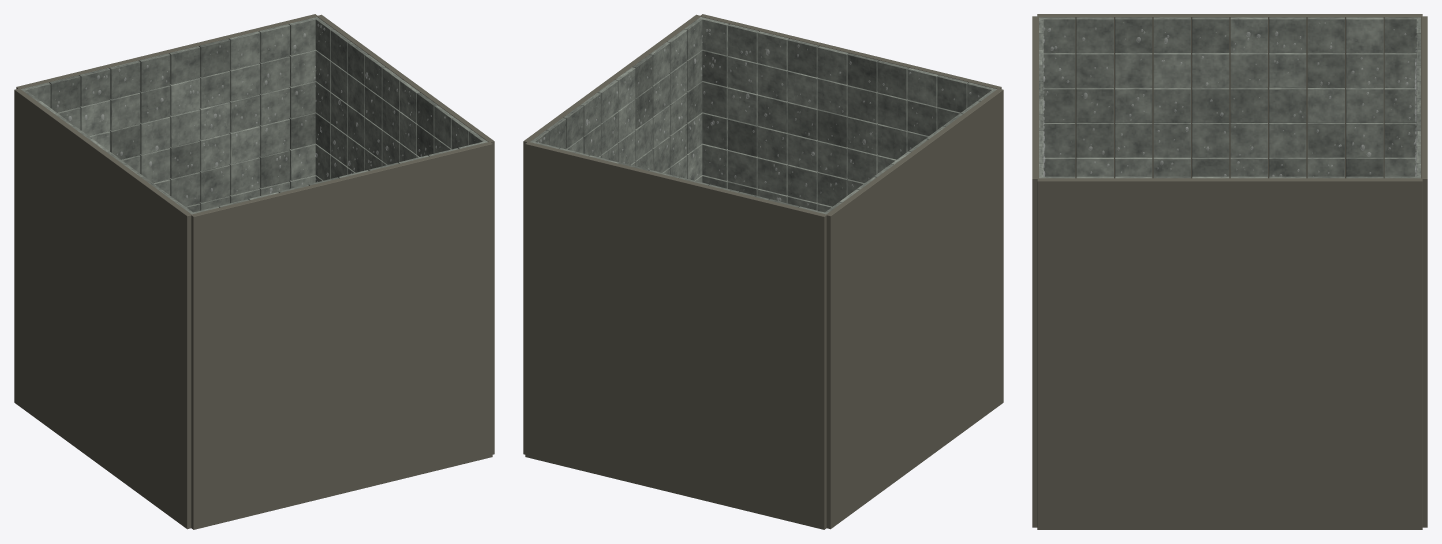
Rendered from 05_灰磁磚牆_水珠_10x10.glb.
The picture shows the model from 3 angles, left to right: view 1: azimuth 30°, elevation 25°; view 2: azimuth 150°, elevation 25°; view 3: azimuth 270°, elevation 25°; orthographic projection. The views are drawn at different scales.
Parts seen in each view (by area): view 1: cube45.001, cube48.001, cube47.001, cube46.001; view 2: cube47.001, cube48.001, cube45.001, cube46.001; view 3: cube46.001, cube48.001, cube45.001, cube47.001, cube127.001.
Part boxes in pixels (box(x1,y1,x2,y2)): cube45.001: box(190, 141, 492, 529); cube48.001: box(14, 88, 194, 529); cube47.001: box(16, 14, 318, 212); cube46.001: box(314, 14, 494, 454); cube47.001: box(525, 141, 827, 529); cube48.001: box(825, 88, 1003, 529); cube45.001: box(699, 14, 1001, 212); cube46.001: box(523, 14, 702, 454); cube46.001: box(1037, 176, 1422, 529); cube48.001: box(1037, 14, 1422, 178); cube45.001: box(1032, 16, 1043, 527); cube47.001: box(1416, 16, 1427, 527); cube127.001: box(1044, 23, 1415, 176).
Bounding box in the file's own units: 2.57 × 2.5 × 2.57.
5 materials, 4 textured.
